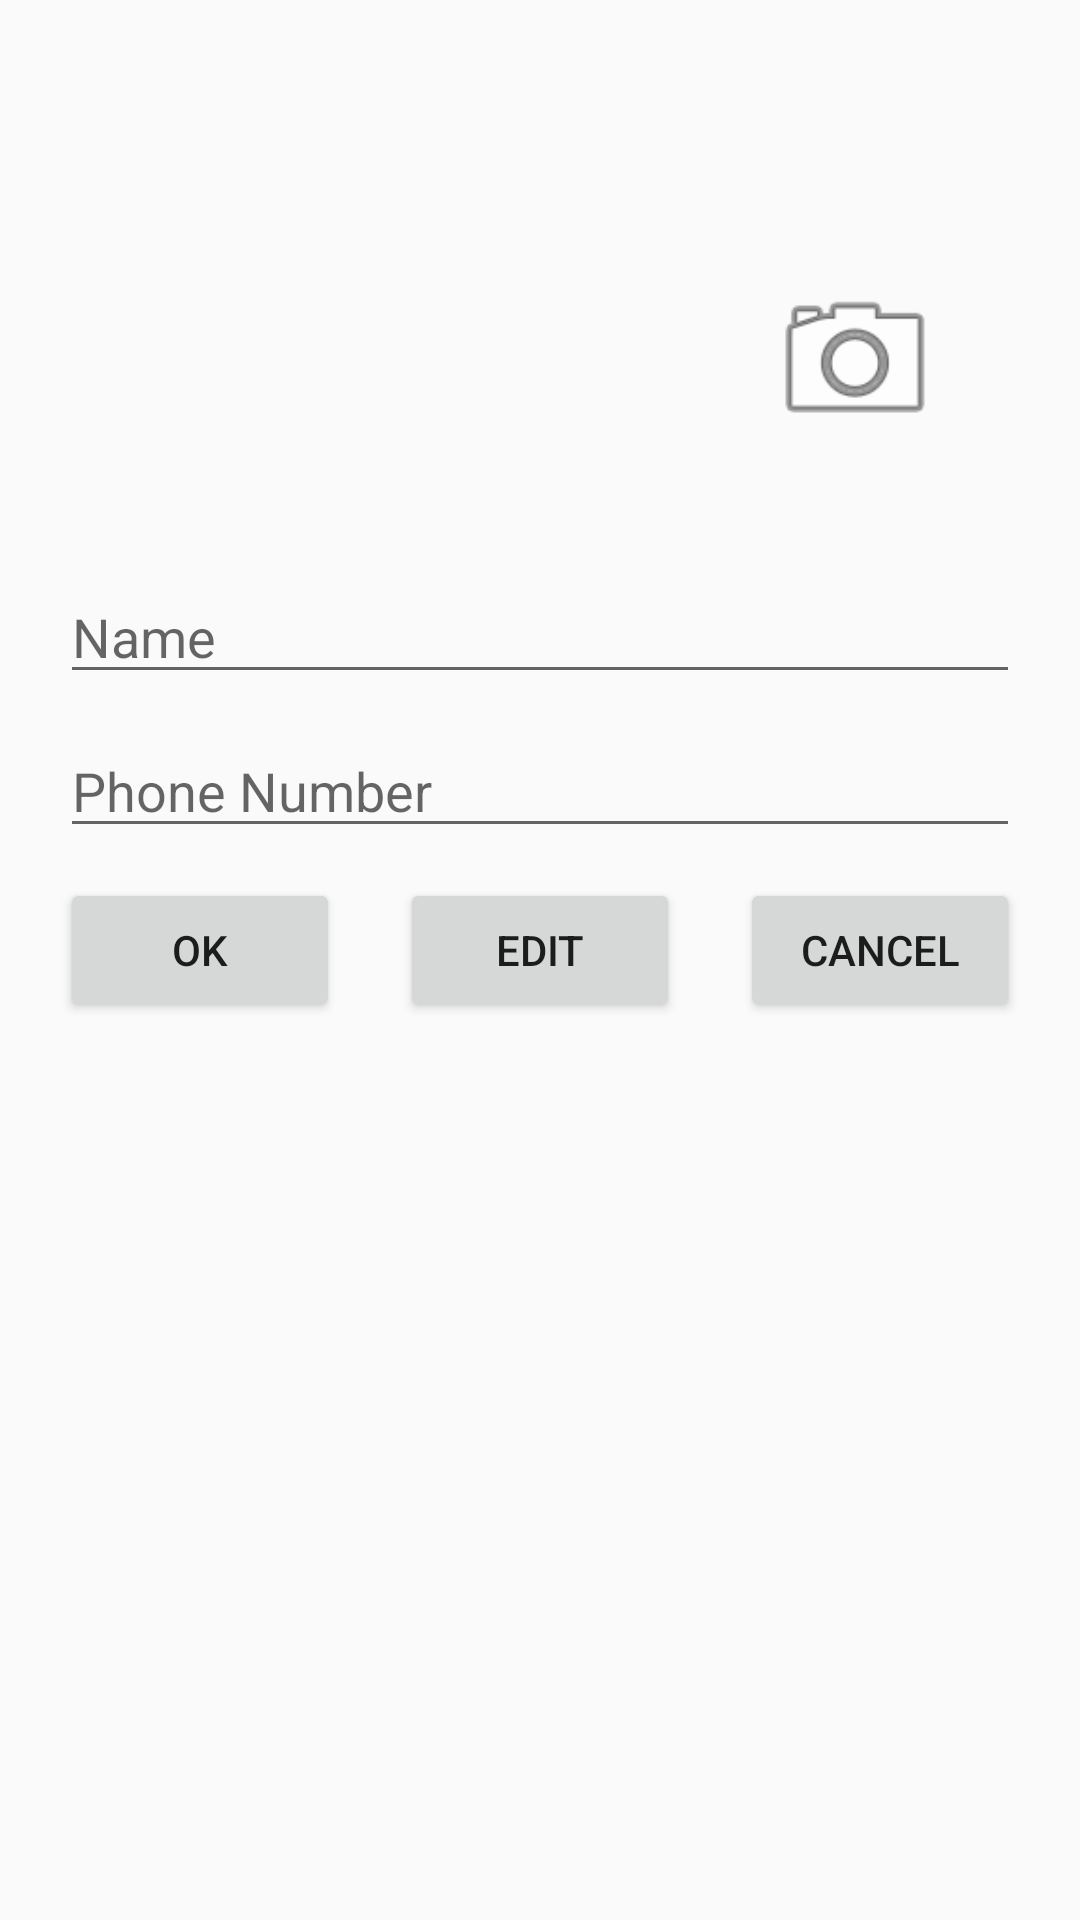

Screen size 1080px×1920px. Icon name, then its center in pixels as (x,y):
camera: (855,357)
